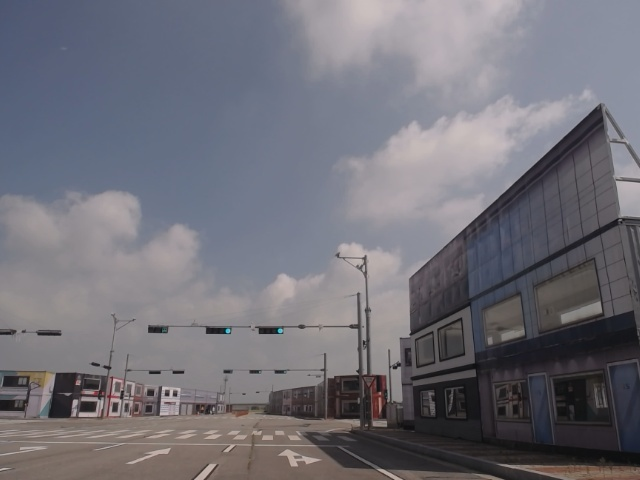straight_green_4: (259, 327, 285, 335), (205, 327, 233, 334)
